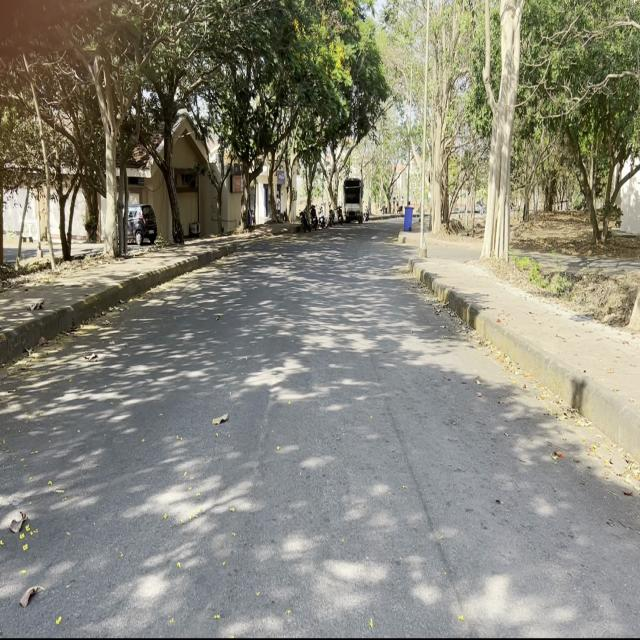Object: (341, 171, 366, 231)
Road: (4, 224, 636, 637)
